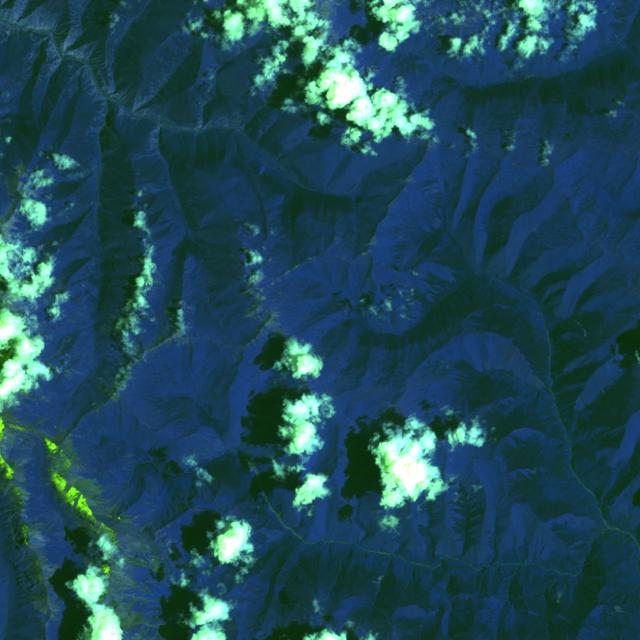landslides: (284, 584, 312, 606), (573, 317, 587, 337), (142, 184, 168, 193), (98, 202, 114, 215), (90, 92, 104, 104), (70, 368, 87, 377), (133, 153, 158, 159), (101, 149, 117, 158), (88, 126, 104, 133), (76, 64, 87, 74), (297, 602, 307, 612)
